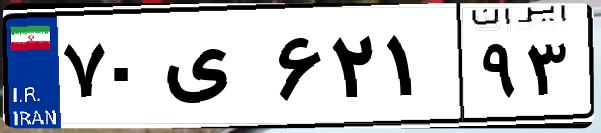0: (110, 28, 158, 98)
1: (385, 28, 445, 110)
2: (330, 28, 385, 110)
3: (525, 38, 570, 115)
6: (270, 28, 330, 110)
7: (57, 26, 110, 100)
9: (475, 38, 525, 113)
ی: (158, 20, 270, 120)
